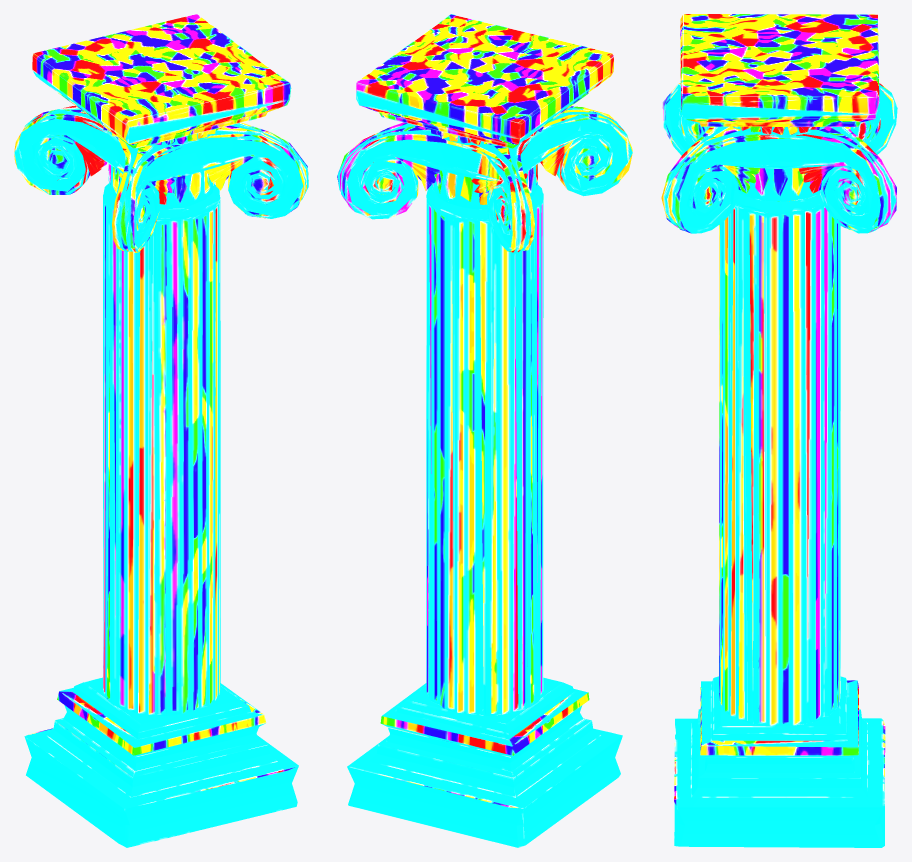
File: pillar.gltf
3 views of the same model, side by side, from view 1: azimuth 30°, elevation 25°; view 2: azimuth 150°, elevation 25°; view 3: azimuth 270°, elevation 25° (orthographic). The views are drawn at different scales.
Visible parts, largest first — view 1: Collumn.004; view 2: Collumn.004; view 3: Collumn.004.
Part boxes in pixels (box(x1,y1,x2,y2)): Collumn.004: box(14, 14, 308, 847); Collumn.004: box(337, 14, 632, 847); Collumn.004: box(661, 14, 897, 847).
Size of the model in its own units: 1.43 by 5 by 1.43.
Materials: 1 (1 with a texture image).
